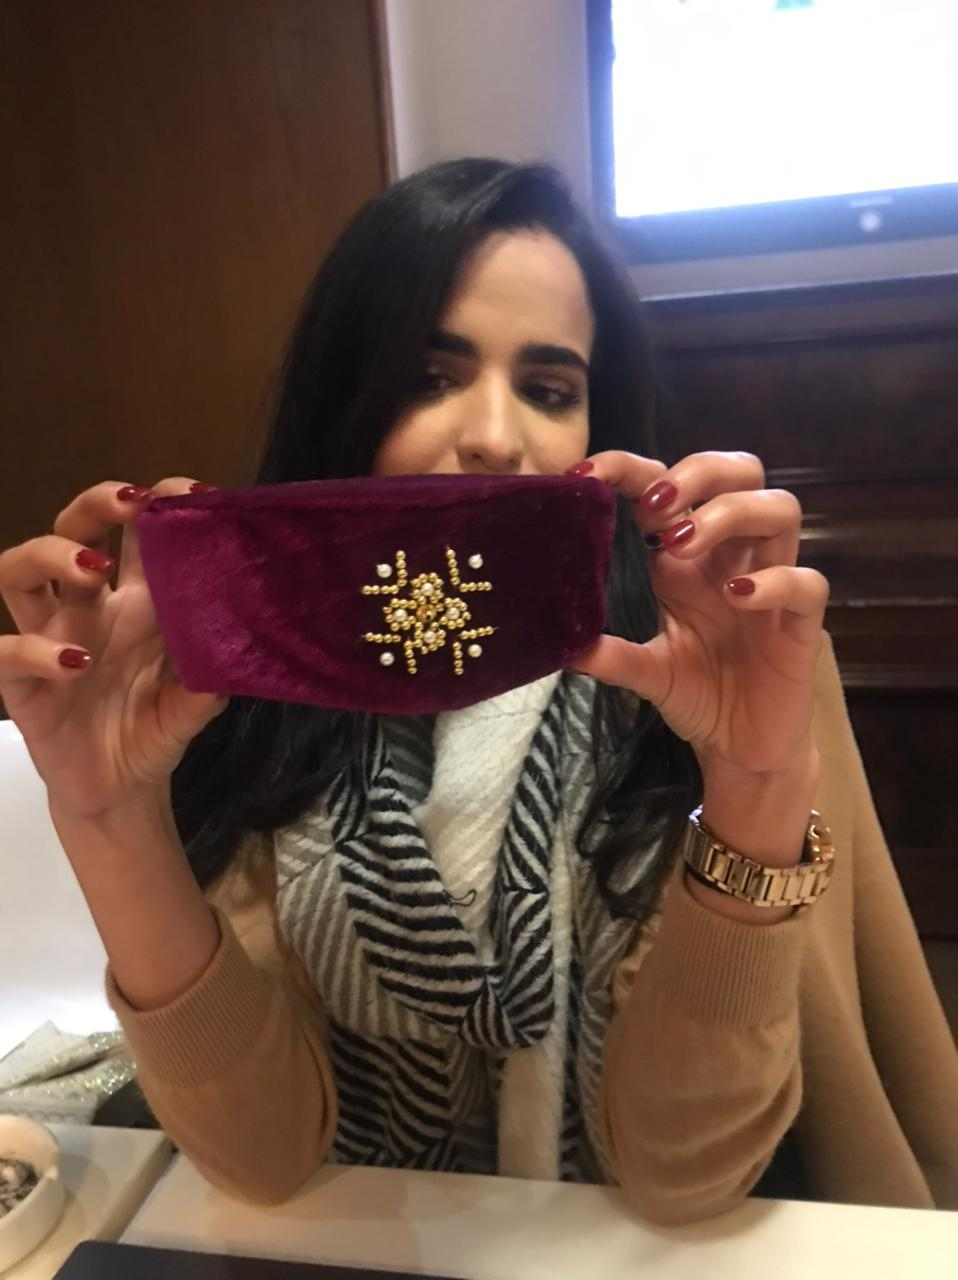chachia: (94, 460, 721, 721)
